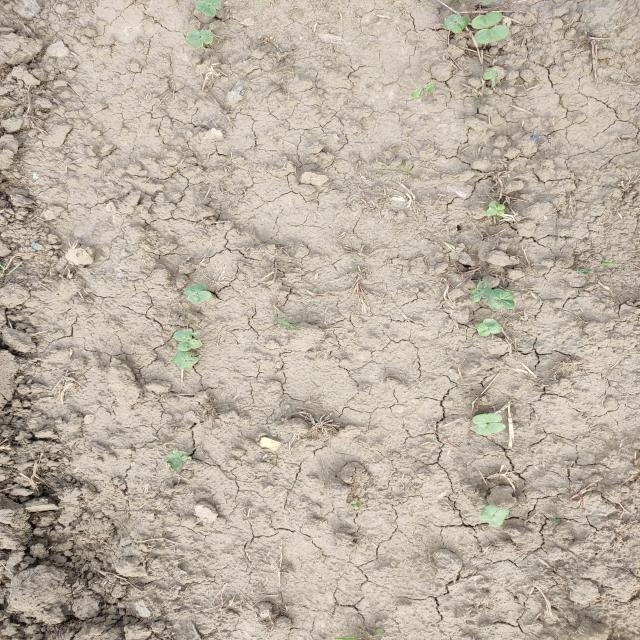seedling_s2: (474, 25, 509, 44), (471, 12, 503, 29), (473, 422, 506, 436), (488, 288, 505, 310), (489, 509, 509, 527), (195, 1, 217, 17), (187, 290, 212, 304), (479, 504, 498, 522), (472, 413, 502, 424), (174, 329, 200, 341), (452, 16, 470, 33), (187, 29, 203, 48), (483, 318, 502, 334), (178, 339, 202, 351), (444, 14, 461, 30), (174, 354, 192, 369), (184, 283, 206, 295), (177, 351, 199, 363), (165, 454, 182, 469), (477, 281, 492, 298), (173, 448, 192, 461), (502, 291, 515, 310), (486, 200, 498, 218), (200, 30, 213, 44), (476, 323, 490, 336), (470, 287, 481, 302), (204, 0, 220, 9), (483, 71, 498, 80), (496, 204, 505, 216)
